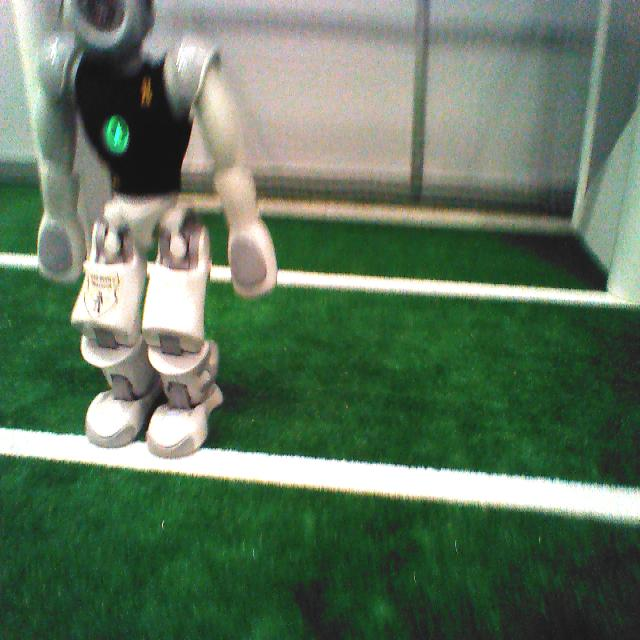goalpost: (13, 0, 90, 253), (604, 132, 639, 305)
